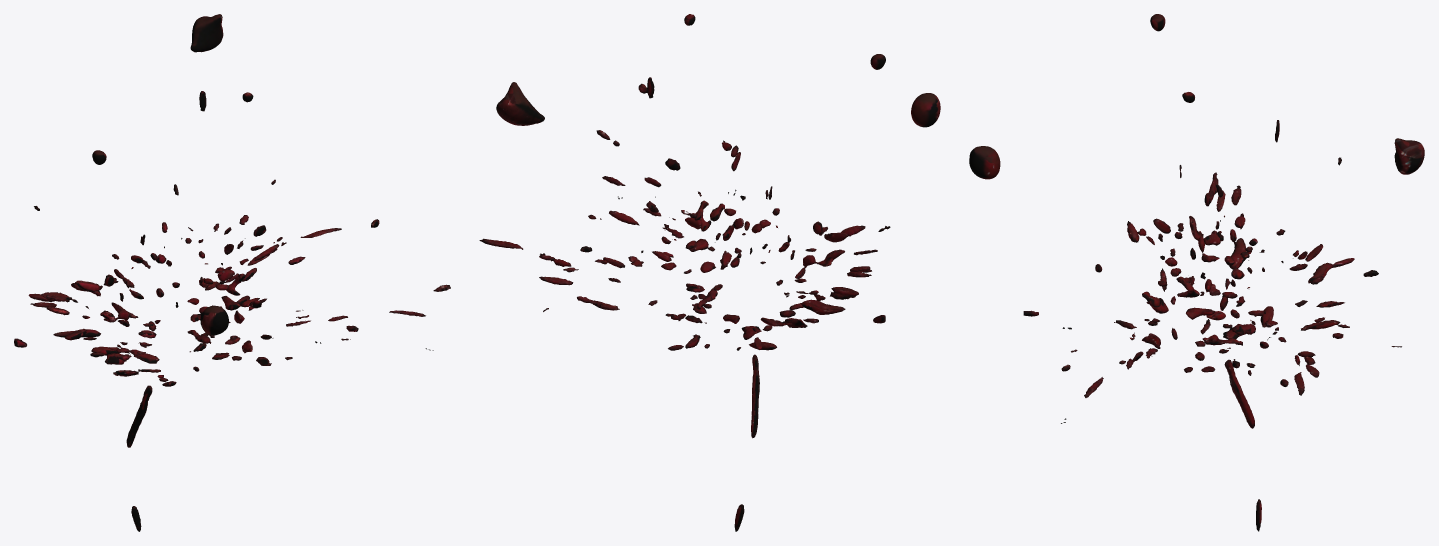
Rendered from blood7.glb.
The picture shows the model from 3 angles, left to right: view 1: azimuth 30°, elevation 25°; view 2: azimuth 150°, elevation 25°; view 3: azimuth 270°, elevation 25°; orthographic projection. The views are drawn at different scales.
Size of the model in its own units: 0.8976 by 1.08 by 0.9269.
Materials: 1 (1 with a texture image).
